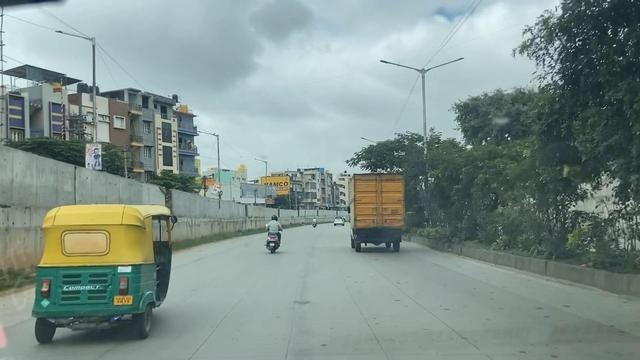HMV: (337, 160, 417, 266)
